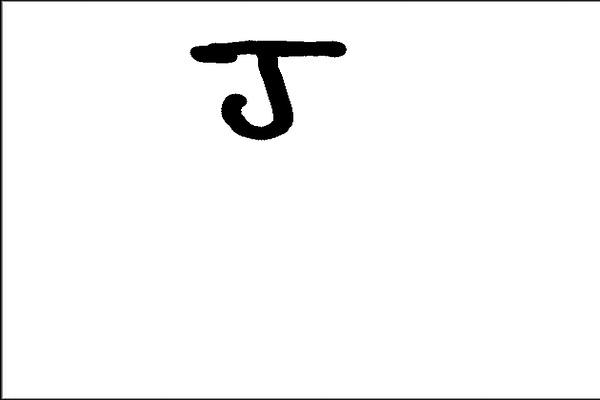J: (182, 33, 352, 145)
